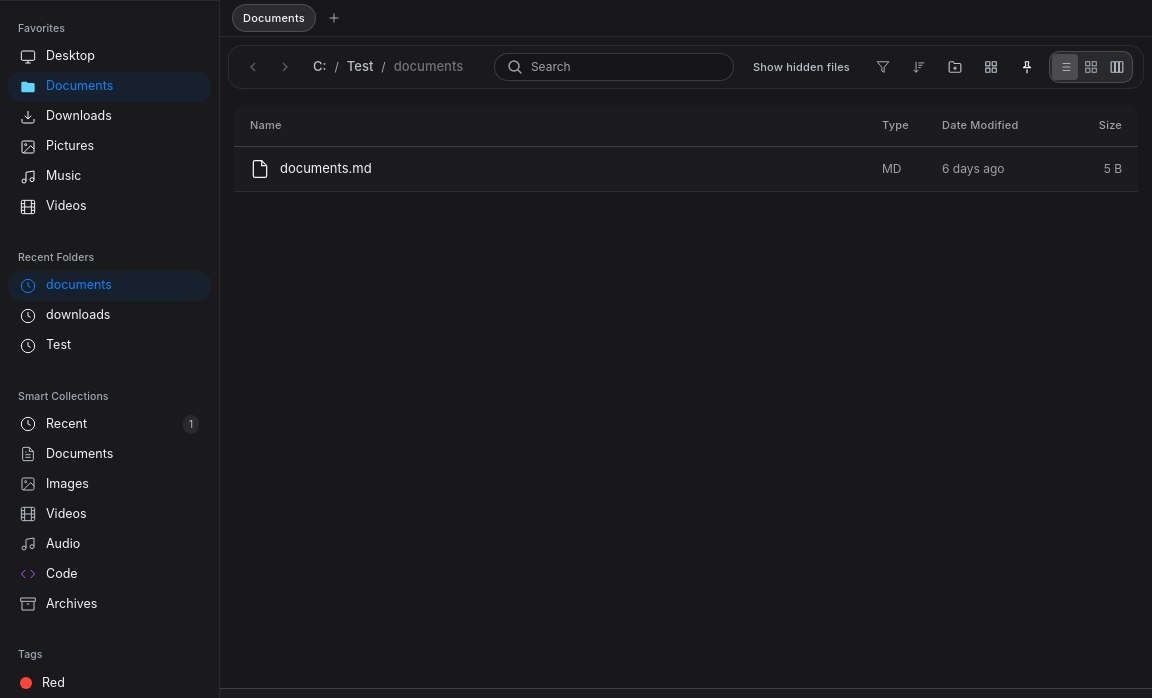
Test case: keeps separate folder histories and restores the neighboring tab when a tab closes
This screenshot has width=1152, height=698.
Expected: the text "documents.md" is shown, [280,159,372,178]
Click the button named "New folder tab" at (334, 18), box [320,4,348,32]
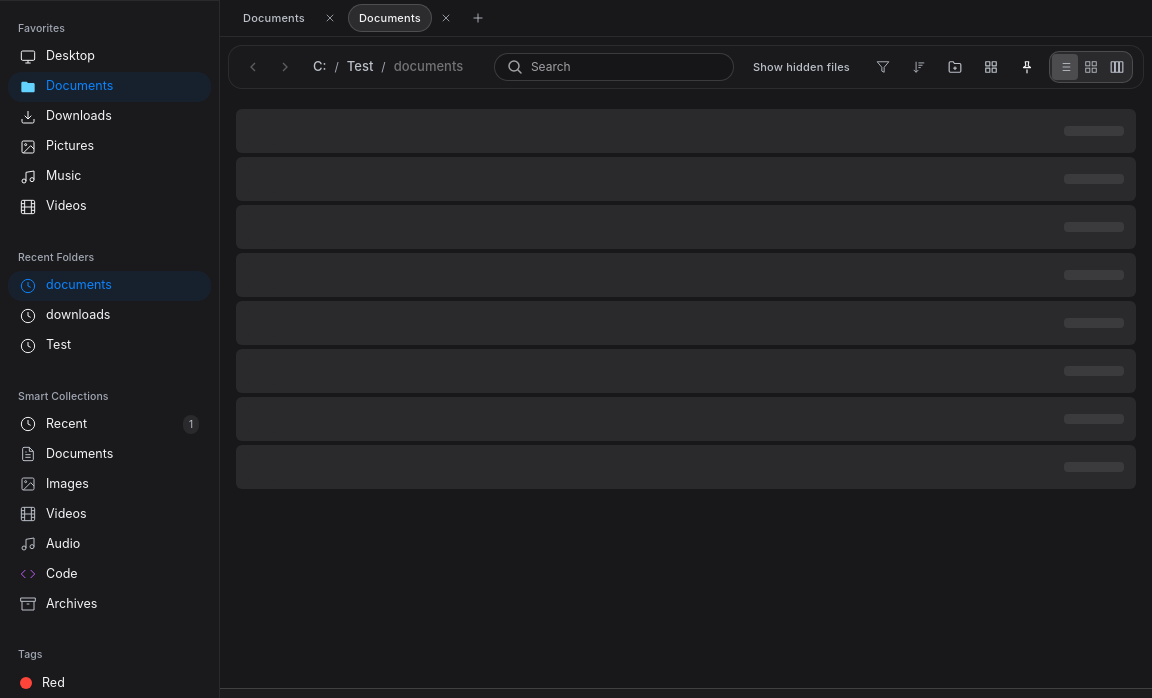
Expected: the number of buttons "Documents" is 2, [232,4,316,32]; [348,4,432,32]
Click the button "Downloads" at (110, 117), box [8,102,211,132]
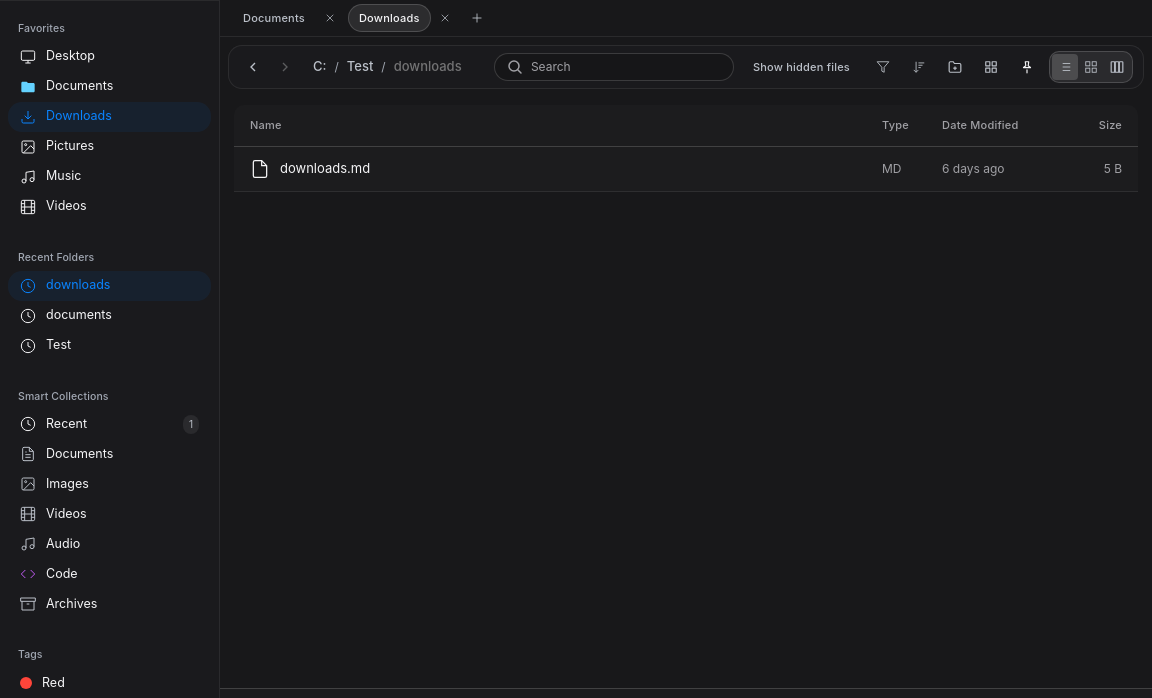
Expected: the text "downloads.md" is shown, [280,159,370,178]
Click the 1st button "Documents" at (274, 18), box [232,4,316,32]
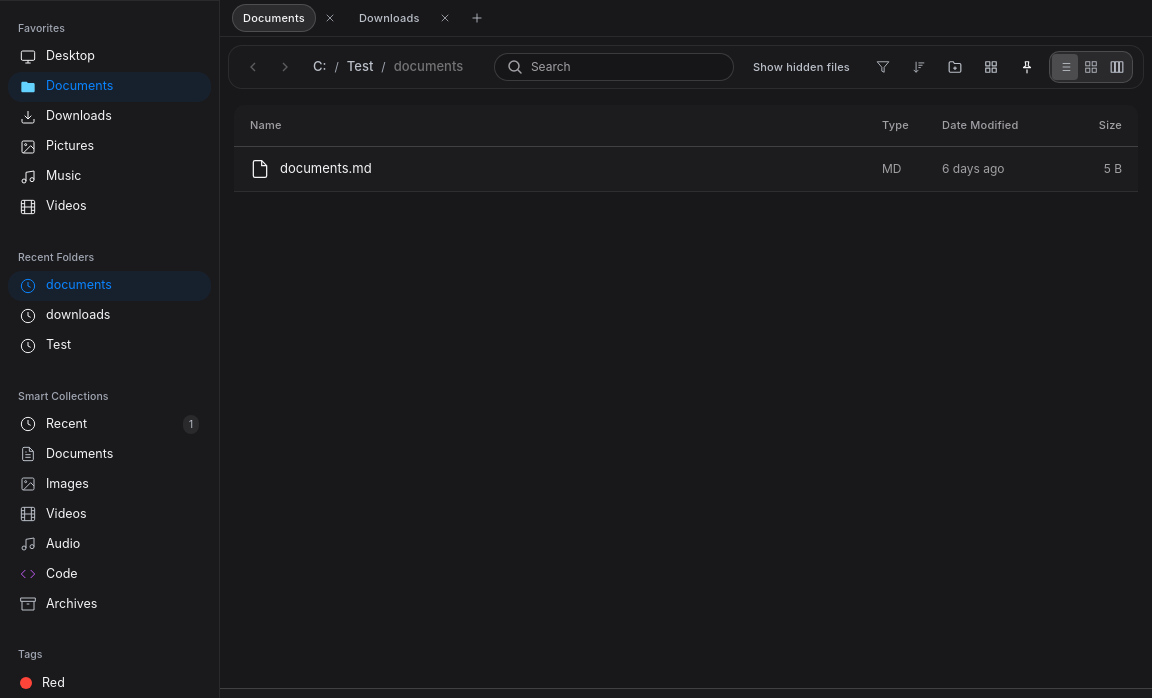
Expected: the text "documents.md" is shown, [280,159,372,178]
Click the button named "Close folder tab Documents" at (330, 18), box [316,4,344,32]
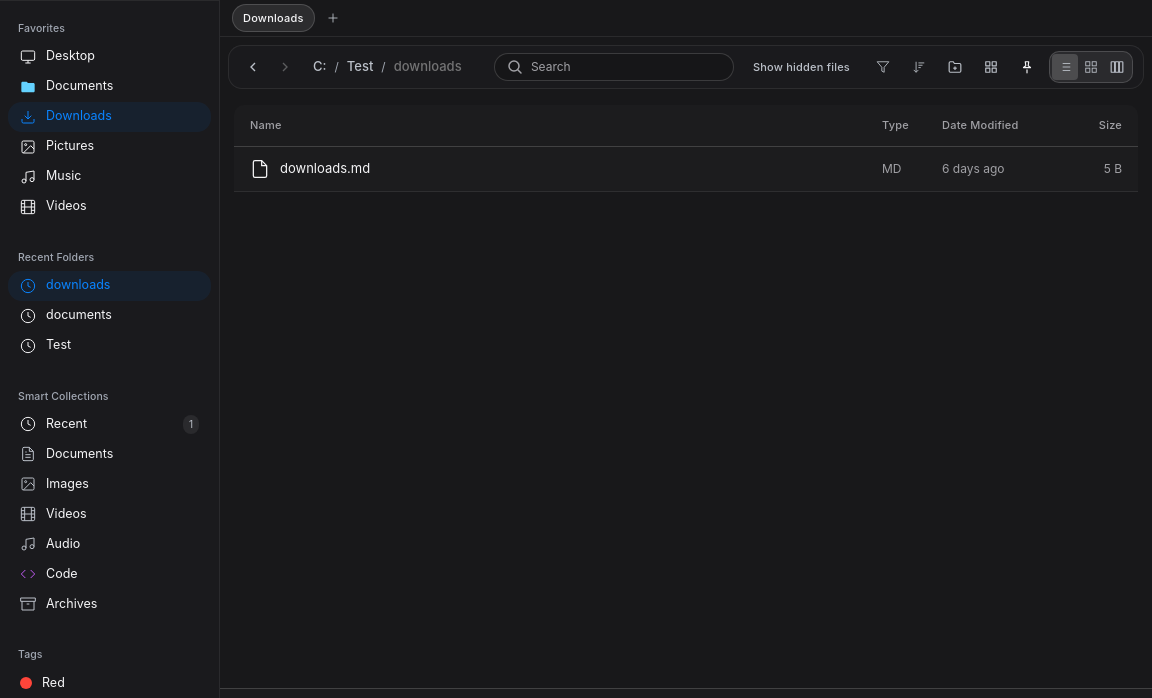
Expected: the text "downloads.md" is shown, [280,159,370,178]
